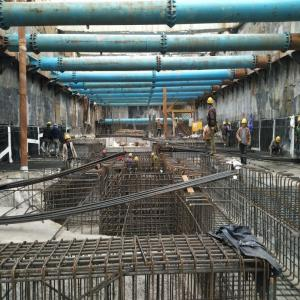blue: (54, 124, 58, 129)
red: (102, 151, 107, 156)
yellow: (242, 119, 248, 129), (208, 98, 214, 108), (66, 135, 72, 143), (276, 137, 281, 144), (223, 122, 227, 127), (48, 123, 52, 128), (129, 154, 133, 159), (136, 158, 139, 164), (152, 154, 155, 159), (229, 124, 232, 128), (176, 118, 179, 121), (86, 122, 88, 126), (159, 118, 160, 122)
